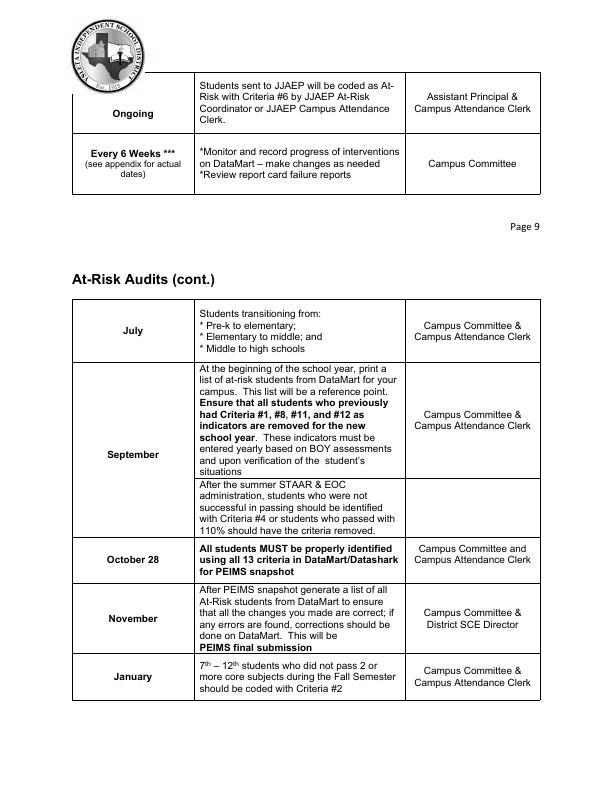table: (67, 293, 549, 708), (63, 68, 557, 199)
text: (66, 267, 217, 288), (504, 219, 550, 235)
